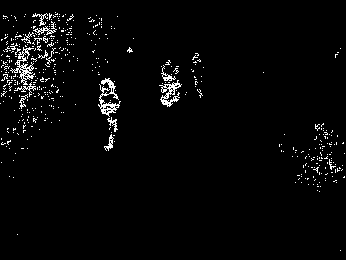person: (96, 77, 123, 154)
